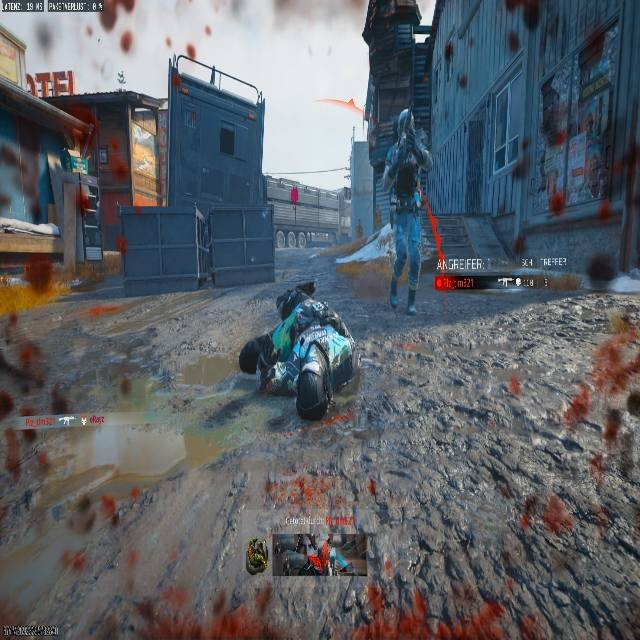head: (275, 286, 303, 319), (297, 280, 316, 298)
player: (239, 282, 359, 424)
